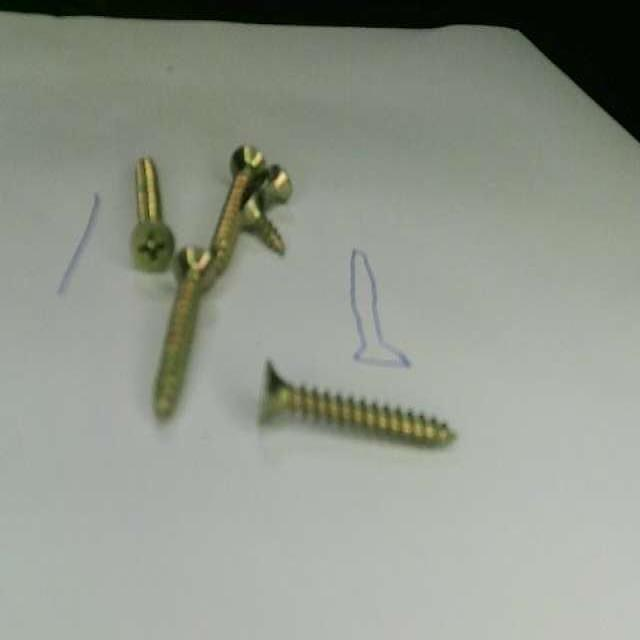Parafuso: (254, 361, 449, 445), (151, 245, 212, 416), (215, 141, 267, 270), (130, 156, 173, 269), (240, 189, 282, 251), (261, 164, 293, 208)
